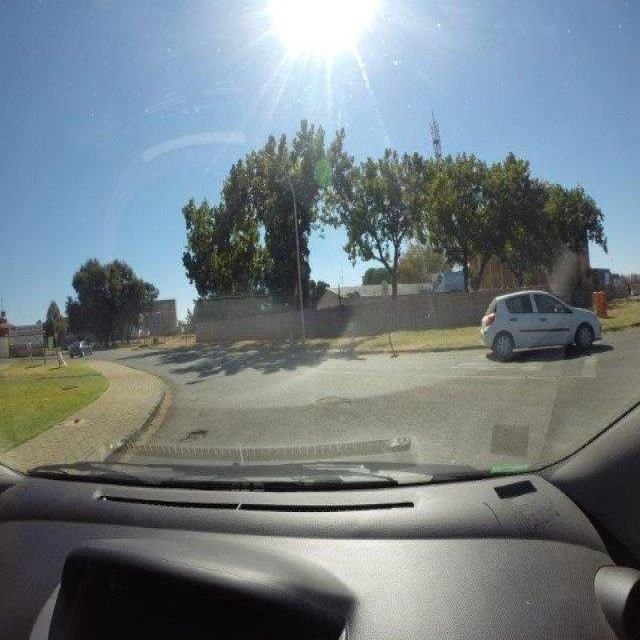lubang: (311, 392, 350, 413), (178, 423, 210, 445)
